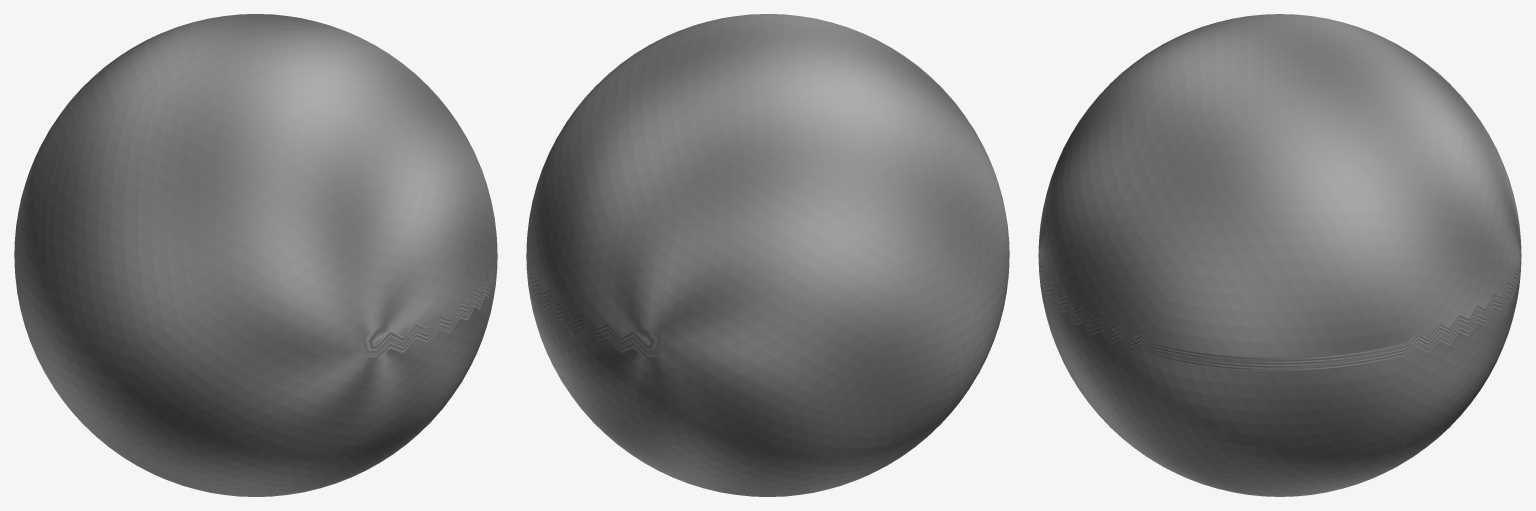
File: sphere-bright.glb
The picture shows the model from 3 angles, left to right: view 1: azimuth 30°, elevation 25°; view 2: azimuth 150°, elevation 25°; view 3: azimuth 270°, elevation 25°; orthographic projection.
Parts seen in each view (by area): view 1: world; view 2: world; view 3: world.
Part boxes in pixels (<box>): world: <box>14,14,497,496</box>; world: <box>526,14,1009,496</box>; world: <box>1038,14,1521,496</box>.
Bounding box in the file's own units: 1.2 × 1.2 × 1.2.
1 material, 1 textured.
